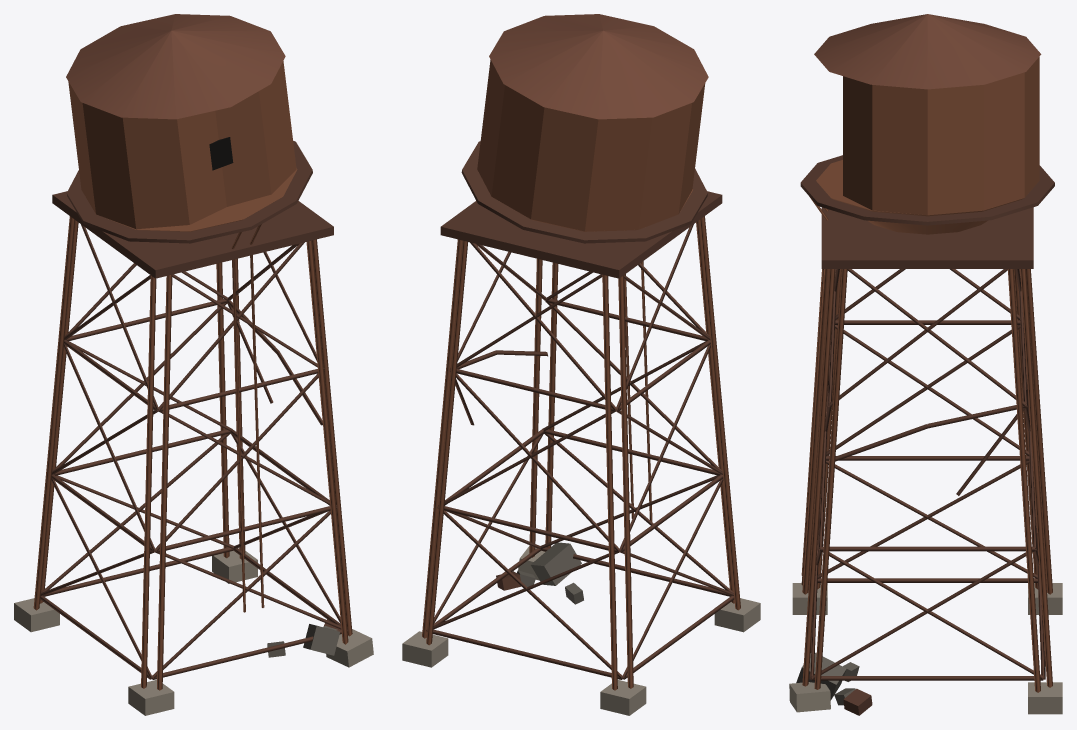
3 views of the same model, side by side, from view 1: azimuth 30°, elevation 25°; view 2: azimuth 150°, elevation 25°; view 3: azimuth 270°, elevation 25° (orthographic). The views are drawn at different scales.
Parts seen in each view (by area): view 1: site_water_tower_ruin; view 2: site_water_tower_ruin; view 3: site_water_tower_ruin.
Part boxes in pixels (x1,y1,x2,y2): site_water_tower_ruin: (14, 14, 373, 715); site_water_tower_ruin: (402, 14, 760, 715); site_water_tower_ruin: (789, 14, 1062, 715).
Size of the model in its own units: 7.18 by 18.11 by 7.09.
